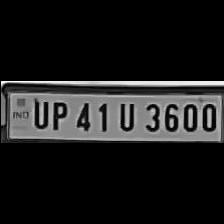0: (198, 100, 218, 132), (180, 100, 198, 132)
1: (92, 98, 112, 132)
3: (140, 100, 160, 132)
4: (69, 98, 93, 132)
6: (160, 100, 180, 132)
P: (46, 98, 68, 130)
U: (113, 99, 138, 131), (28, 97, 48, 129)
